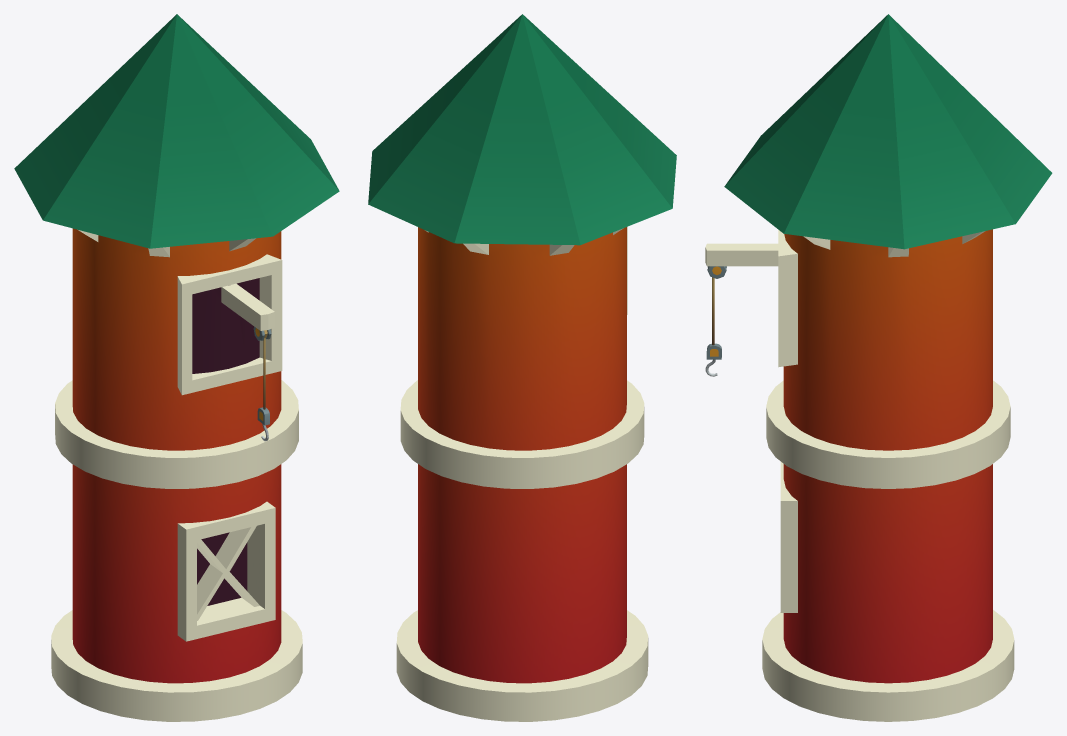
Rendered from Tower.fbx.
3 views of the same model, side by side, from view 1: azimuth 30°, elevation 25°; view 2: azimuth 150°, elevation 25°; view 3: azimuth 270°, elevation 25° (orthographic).
Visible parts, largest first — view 1: Tower; view 2: Tower; view 3: Tower.
Part boxes in pixels (x1=…): Tower: x1=14, y1=14, x2=339, y2=721; Tower: x1=368, y1=14, x2=676, y2=721; Tower: x1=705, y1=14, x2=1052, y2=721.
Size of the model in its own units: 1.69 by 3.72 by 1.78.
